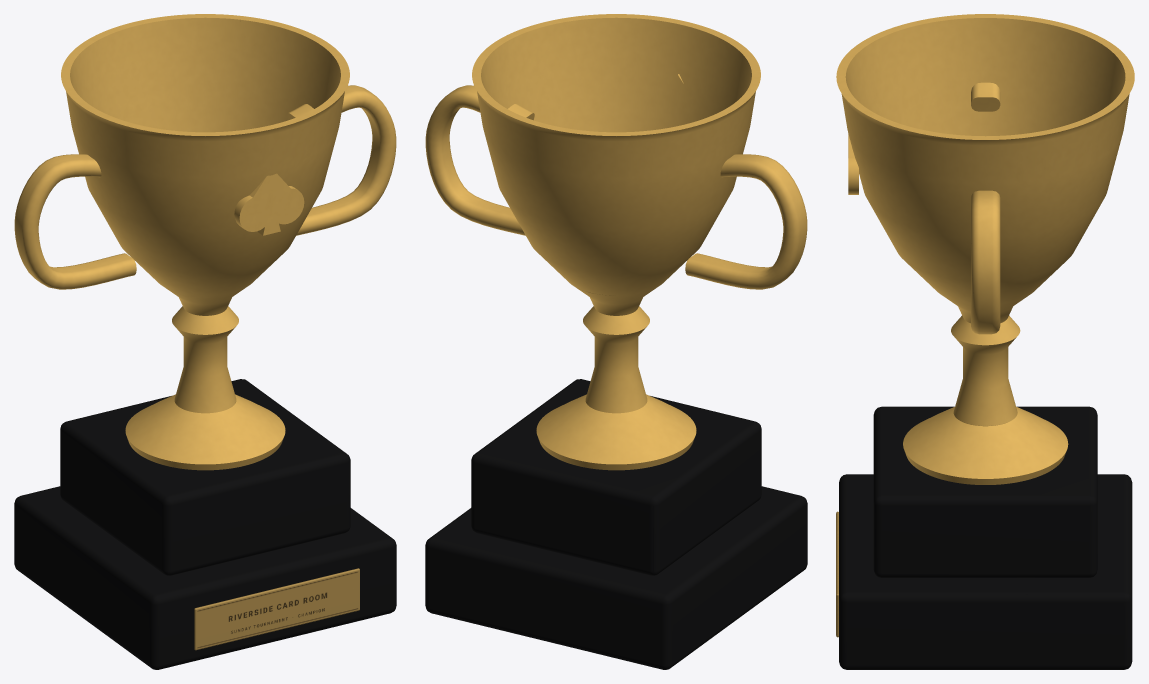
Rendered from SM_Trophy.glb.
3 views of the same model, side by side, from view 1: azimuth 30°, elevation 25°; view 2: azimuth 150°, elevation 25°; view 3: azimuth 270°, elevation 25° (orthographic). The views are drawn at different scales.
Visible parts, largest first — view 1: SM_Trophy; view 2: SM_Trophy; view 3: SM_Trophy.
Part boxes in pixels (x1,y1,x2,y2): SM_Trophy: (14, 14, 396, 669); SM_Trophy: (425, 14, 807, 669); SM_Trophy: (836, 14, 1134, 669).
Size of the model in its own units: 0.167 by 0.221 by 0.1121.
Materials: 3 (3 with a texture image).
